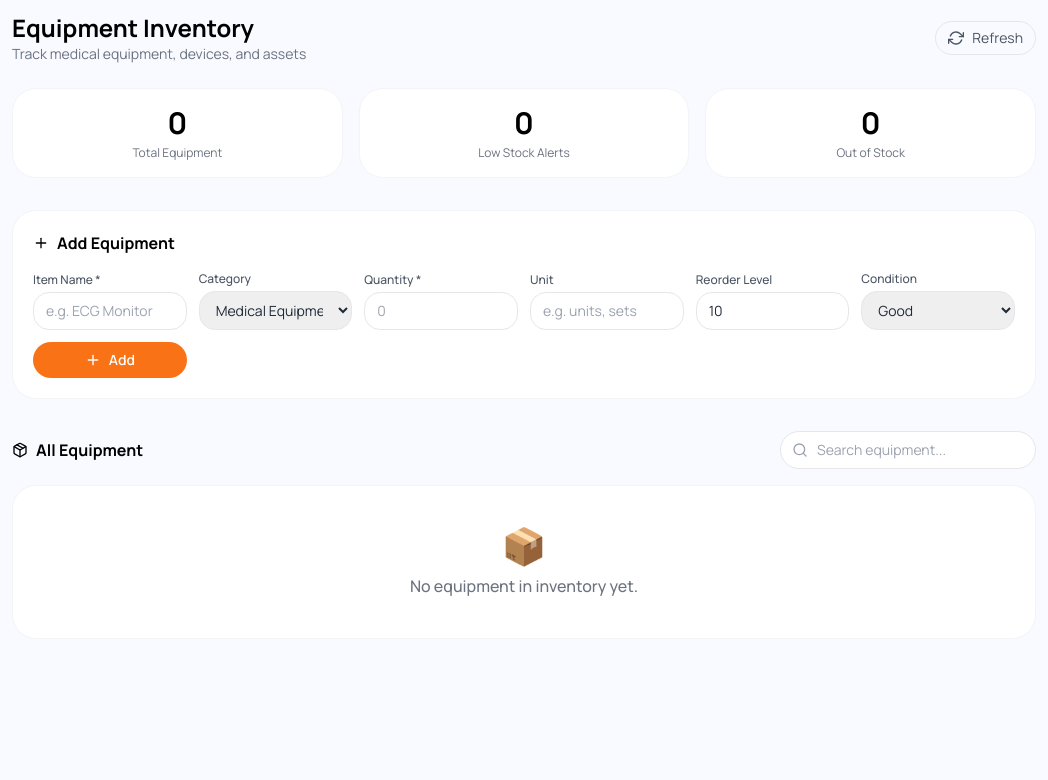
Scenario: Add Equipment blocks reorder levels above quantity 5
Type "ECG Monitor" into the field with placeholder "e.g. ECG Monitor" at [110, 311], box [33, 292, 187, 330]
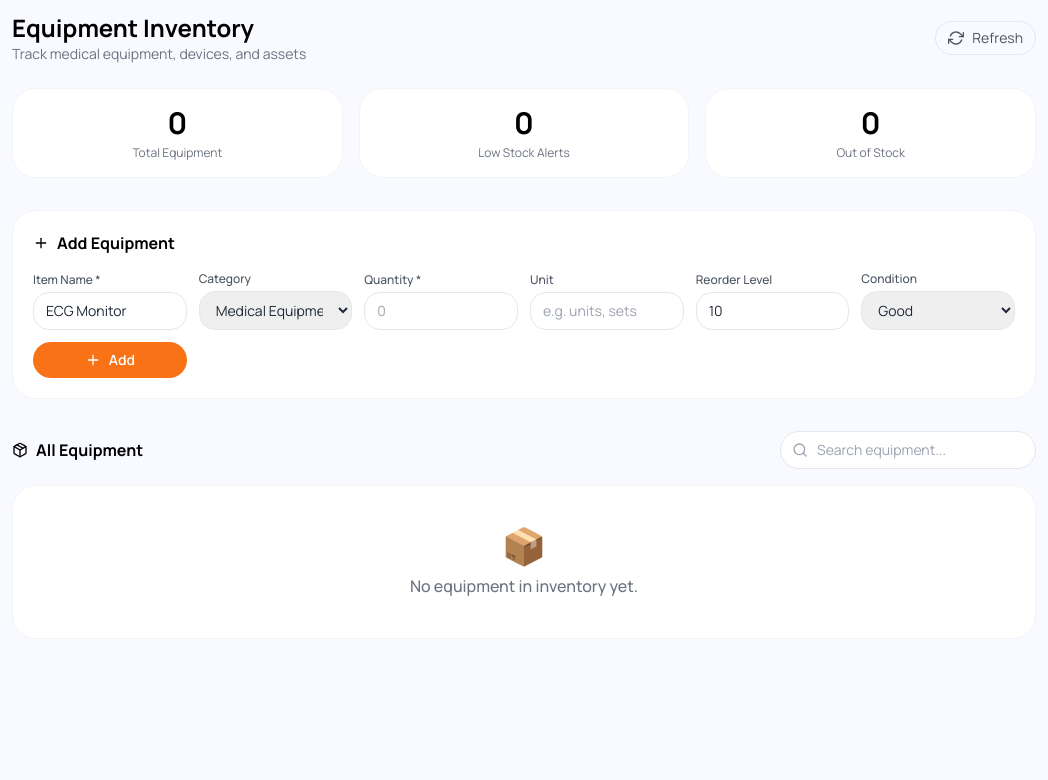
Type "12" into the number field labelled "Quantity *" at [441, 311], box [364, 292, 518, 330]
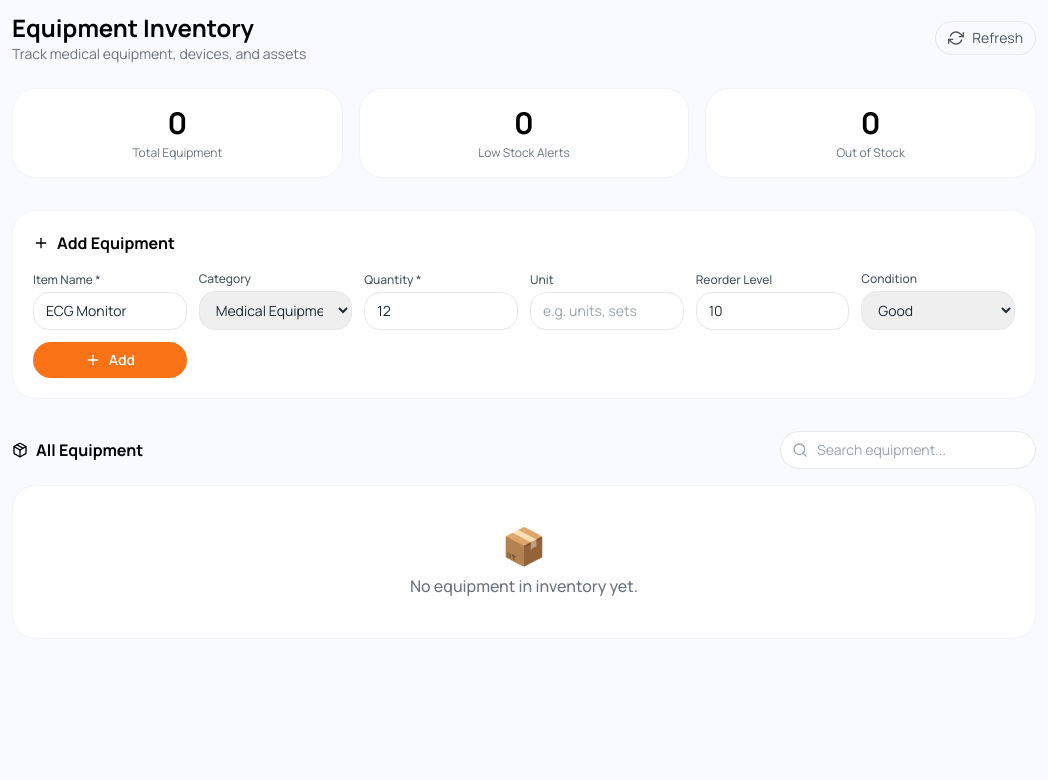
Expected: the button "Add" is enabled, [33, 342, 187, 378]
Replace the text in the number field labelled "Quantity *" with "5" at [441, 311], box [364, 292, 518, 330]
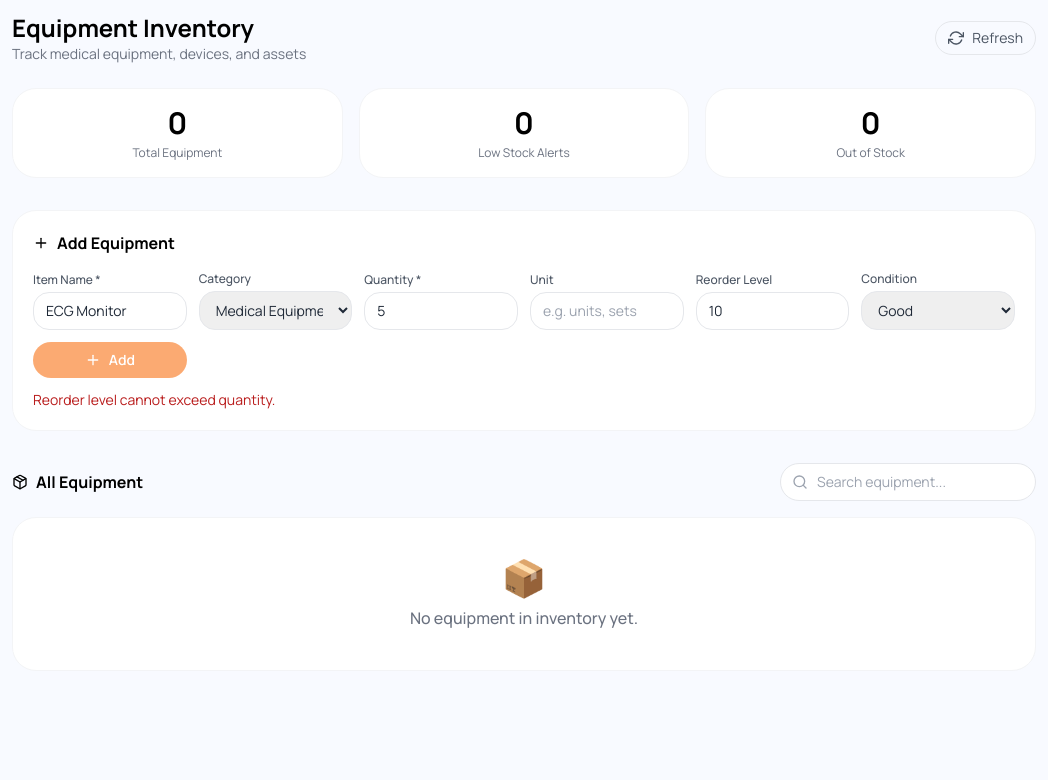
Result: the message reads "Reorder level cannot exceed quantity." at [33, 390, 275, 409]
Result: the button "Add" is disabled at [33, 342, 187, 378]
Submit the form, box [33, 271, 1015, 410]
Type "5" into the number field labelled "Reorder Level" at [773, 311], box [696, 292, 849, 330]
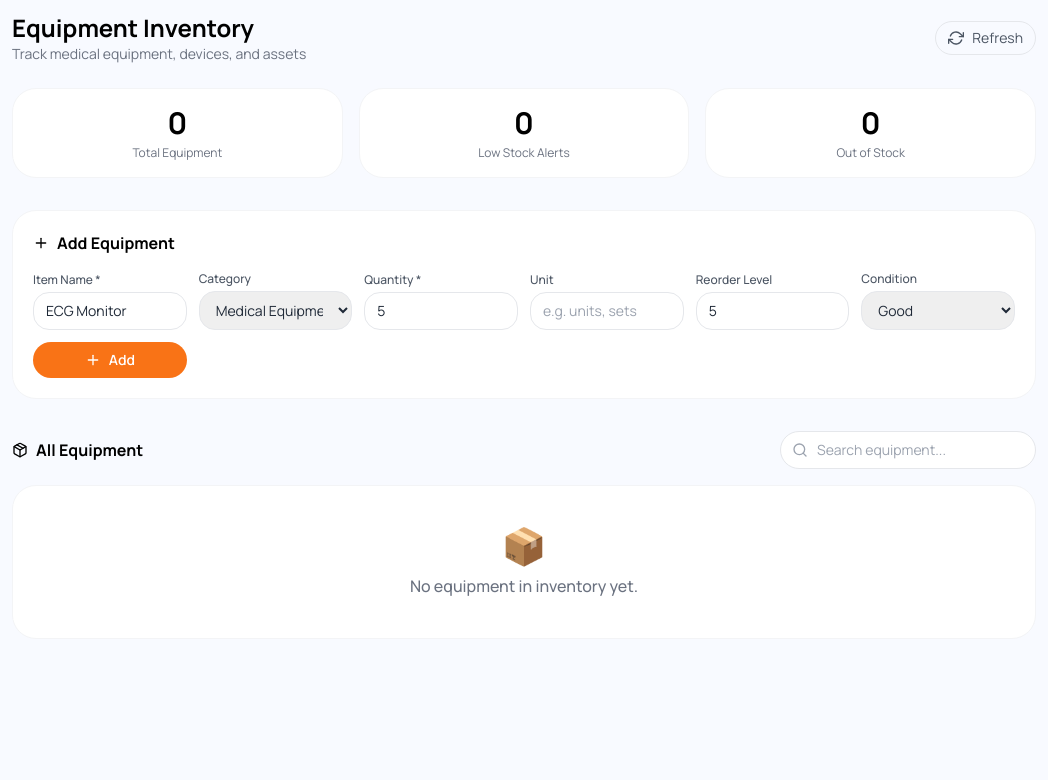
Result: the message "Reorder level cannot exceed quantity." is gone
Click the button "Add" at [110, 360], box [33, 342, 187, 378]
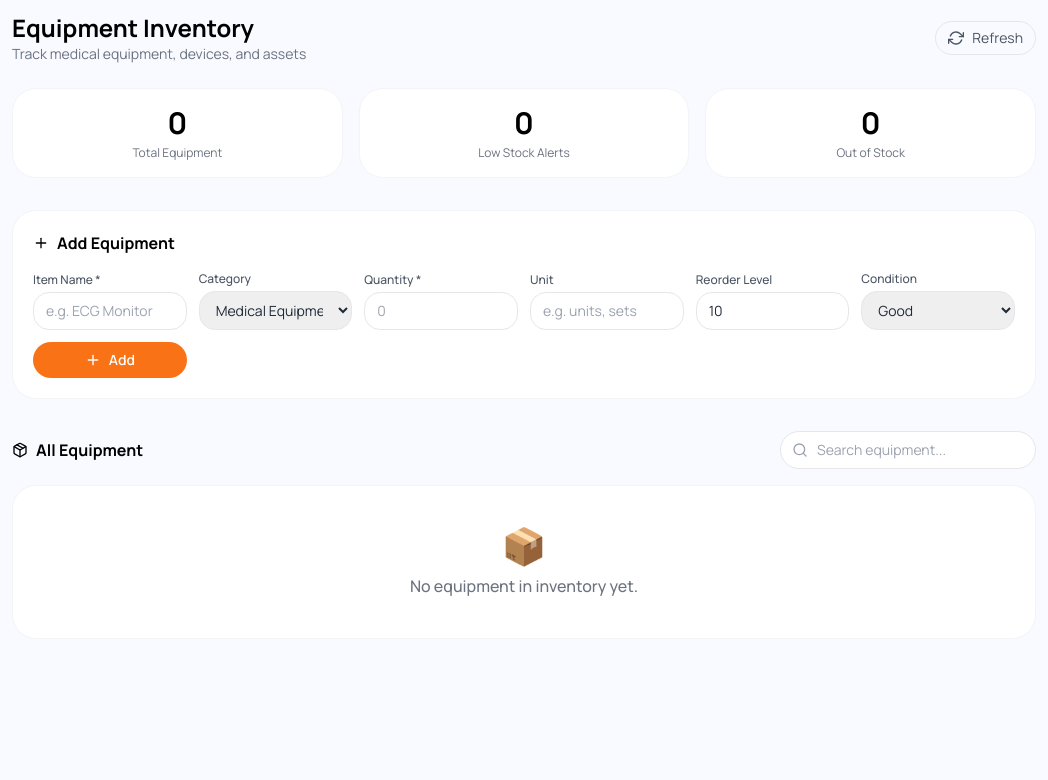
Result: the number field labelled "Quantity *" is not empty at [364, 292, 518, 330]
